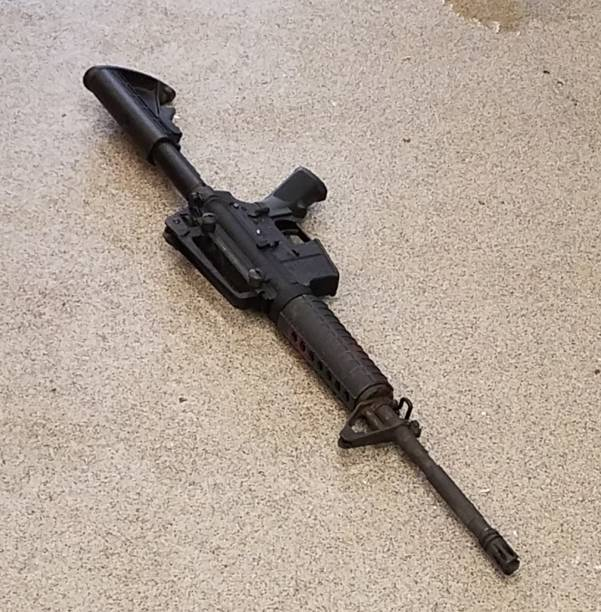rifle: (83, 58, 539, 581)
